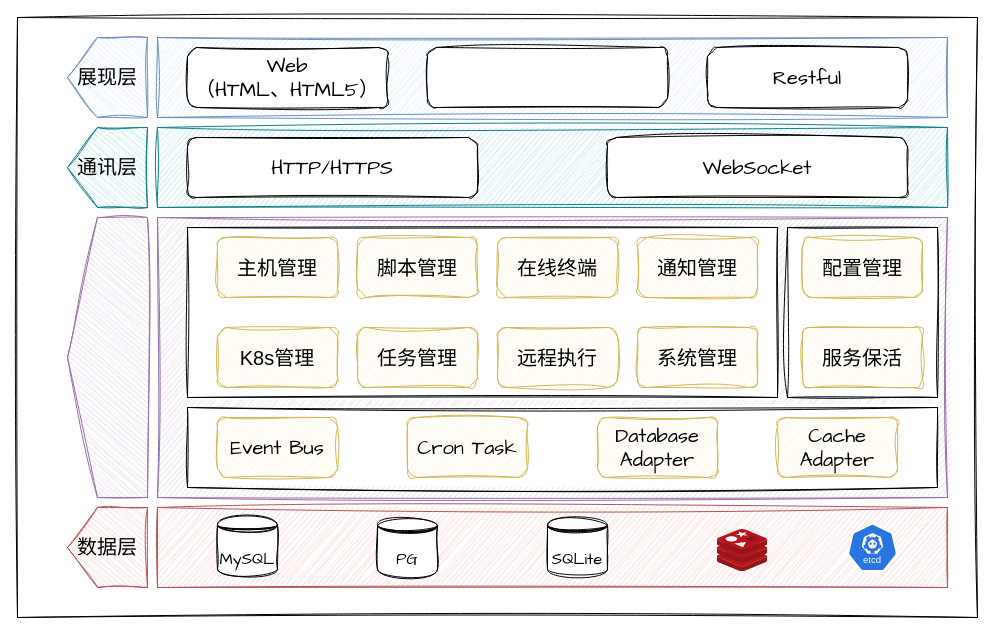
The diagram is 995 pixels wide and 635 high, and some of its shapes have lost their labels. Each missing label, with the centre of its shape:
"微信小程序 （但行趣事，暂未上线）" belongs at (x=547, y=77).
"服务层" belongs at (x=107, y=357).
